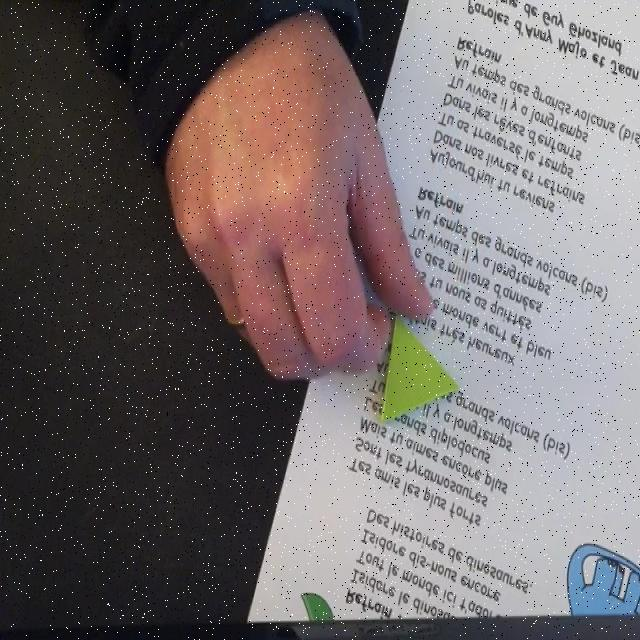triangle: (380, 312, 461, 424)
